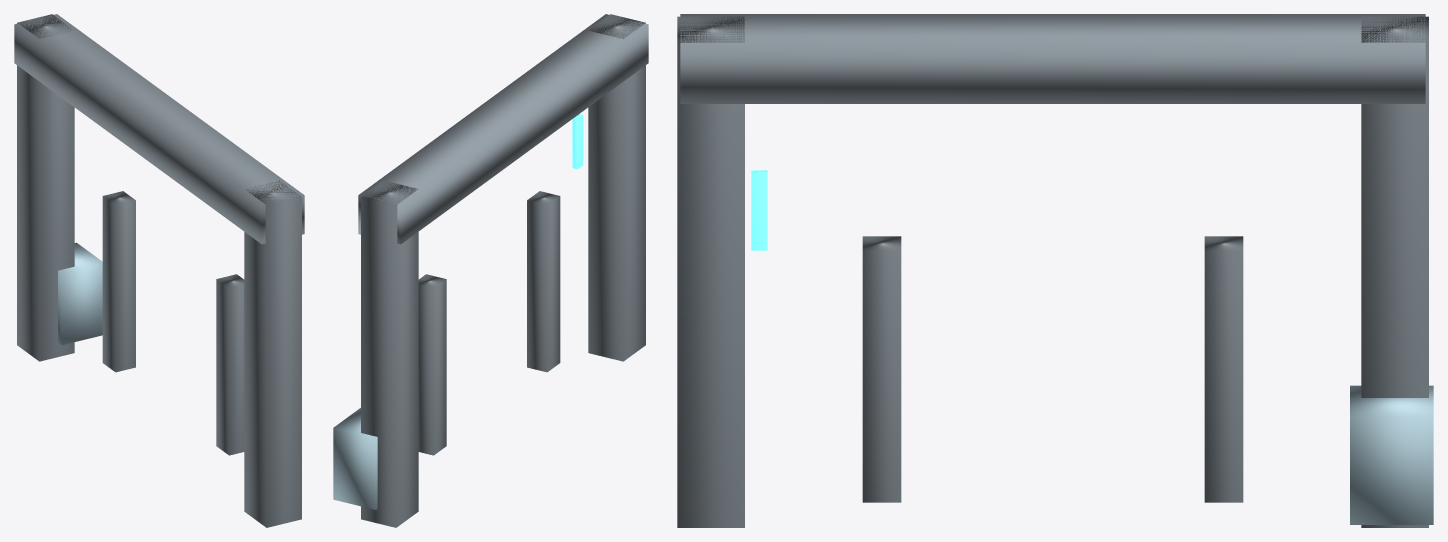
The model's file is ice-mine-support-frame-lod1.glb.
3 views of the same model, side by side, from view 1: azimuth 30°, elevation 25°; view 2: azimuth 150°, elevation 25°; view 3: azimuth 270°, elevation 25° (orthographic). The views are drawn at different scales.
Visible parts, largest first — view 1: ice-mine-support-frame-crown, ice-mine-support-frame-right, ice-mine-support-frame-left, ice-mine-support-frame-brace-left, ice-mine-support-frame-brace-right, ice-mine-support-frame-frost-sheath; view 2: ice-mine-support-frame-crown, ice-mine-support-frame-left, ice-mine-support-frame-right, ice-mine-support-frame-brace-right, ice-mine-support-frame-brace-left, ice-mine-support-frame-frost-sheath, ice-mine-support-frame-status; view 3: ice-mine-support-frame-crown, ice-mine-support-frame-right, ice-mine-support-frame-left, ice-mine-support-frame-frost-sheath, ice-mine-support-frame-brace-left, ice-mine-support-frame-brace-right, ice-mine-support-frame-status.
Boxes of the visible parts, x1,y1,x2,y2 form: ice-mine-support-frame-crown: [14, 14, 304, 244]; ice-mine-support-frame-right: [244, 180, 301, 527]; ice-mine-support-frame-left: [17, 14, 74, 361]; ice-mine-support-frame-brace-left: [102, 191, 135, 372]; ice-mine-support-frame-brace-right: [216, 274, 244, 455]; ice-mine-support-frame-frost-sheath: [58, 242, 102, 344]; ice-mine-support-frame-crown: [358, 14, 648, 244]; ice-mine-support-frame-left: [361, 180, 418, 527]; ice-mine-support-frame-right: [588, 14, 645, 361]; ice-mine-support-frame-brace-right: [527, 191, 560, 372]; ice-mine-support-frame-brace-left: [418, 274, 446, 455]; ice-mine-support-frame-frost-sheath: [333, 408, 377, 509]; ice-mine-support-frame-status: [572, 114, 583, 169]; ice-mine-support-frame-crown: [680, 14, 1425, 103]; ice-mine-support-frame-right: [677, 16, 744, 527]; ice-mine-support-frame-left: [1361, 16, 1428, 527]; ice-mine-support-frame-frost-sheath: [1350, 385, 1433, 524]; ice-mine-support-frame-brace-left: [1204, 236, 1243, 502]; ice-mine-support-frame-brace-right: [862, 236, 901, 502]; ice-mine-support-frame-status: [751, 170, 767, 250].
Bounding box in the file's own units: 0.7 × 3.32 × 4.69.
